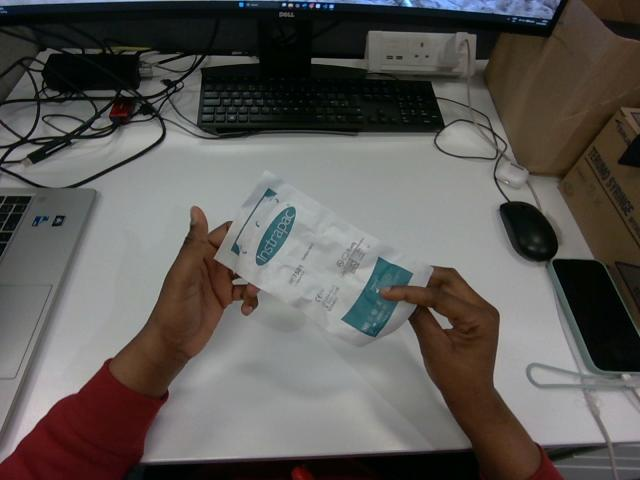gallipot: (215, 172, 432, 345)
